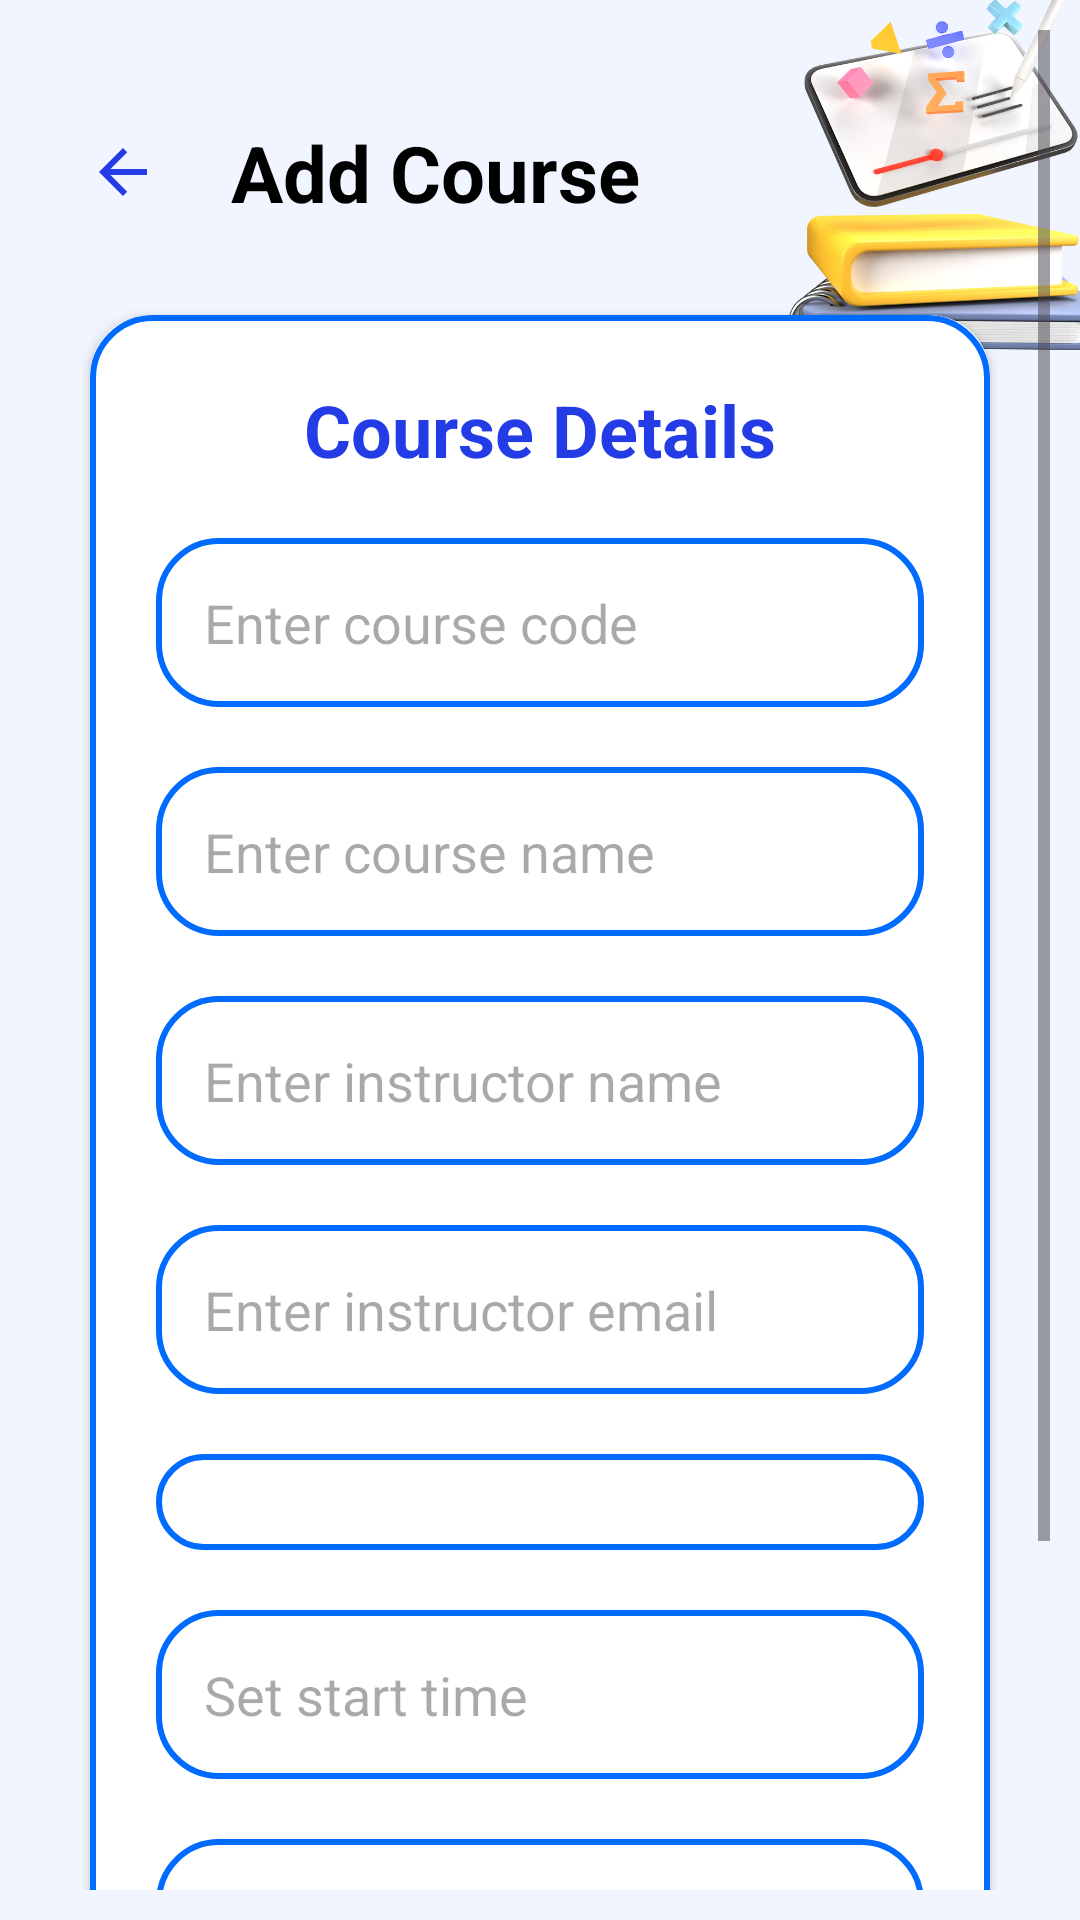

Icon click points for this 1080w x 1920h phone screenshot, format (x=x, y=y):
arrow back: (x=123, y=172)
